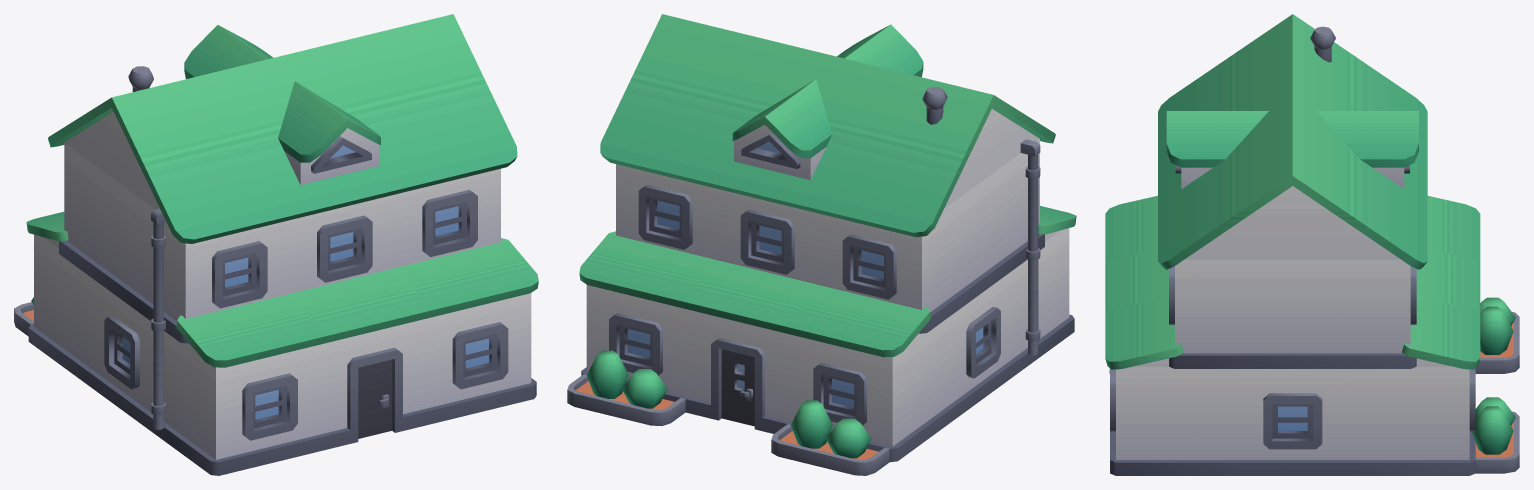
File: building-type-t.glb
3 views of the same model, side by side, from view 1: azimuth 30°, elevation 25°; view 2: azimuth 150°, elevation 25°; view 3: azimuth 270°, elevation 25° (orthographic). The views are drawn at different scales.
Parts seen in each view (by area): view 1: building-type-t; view 2: building-type-t; view 3: building-type-t.
Boxes of the visible parts, <box> form: building-type-t: <box>14,14,538,475</box>; building-type-t: <box>567,14,1076,475</box>; building-type-t: <box>1105,14,1519,475</box>.
Size of the model in its own units: 1.31 by 1.16 by 1.41.
1 material, 1 textured.
